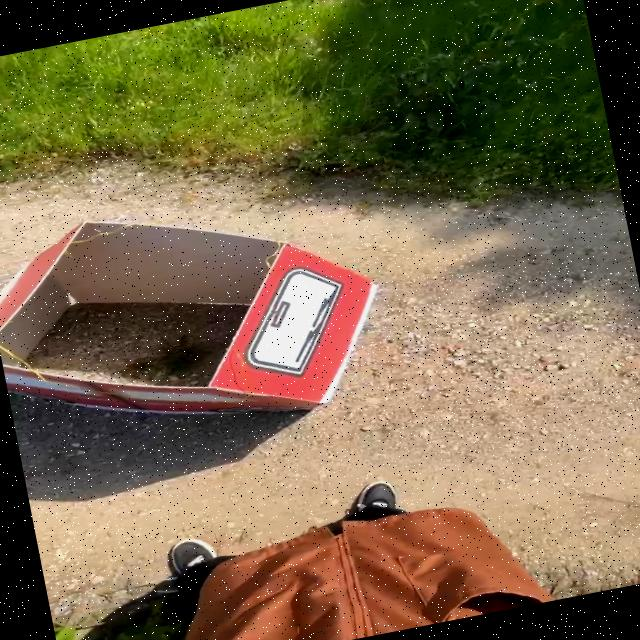red_car: (0, 133, 470, 517)
